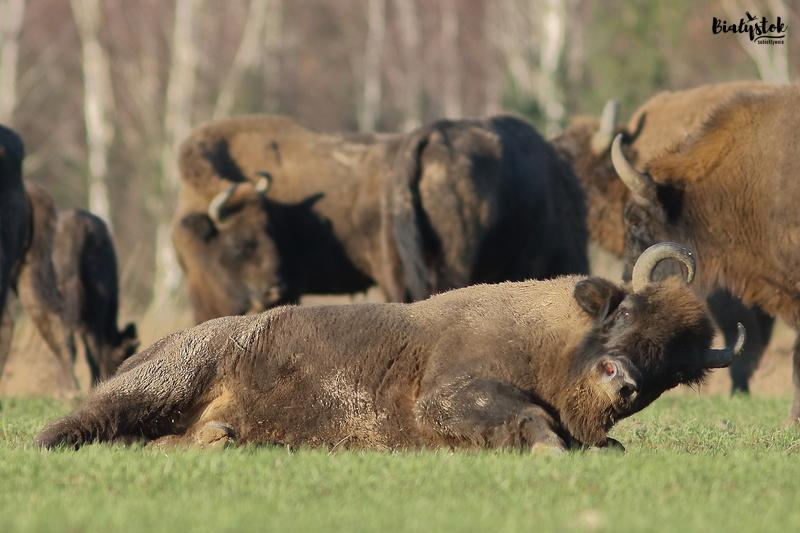zubr: (45, 228, 800, 499), (140, 95, 409, 369), (393, 72, 622, 372), (597, 60, 800, 296)
